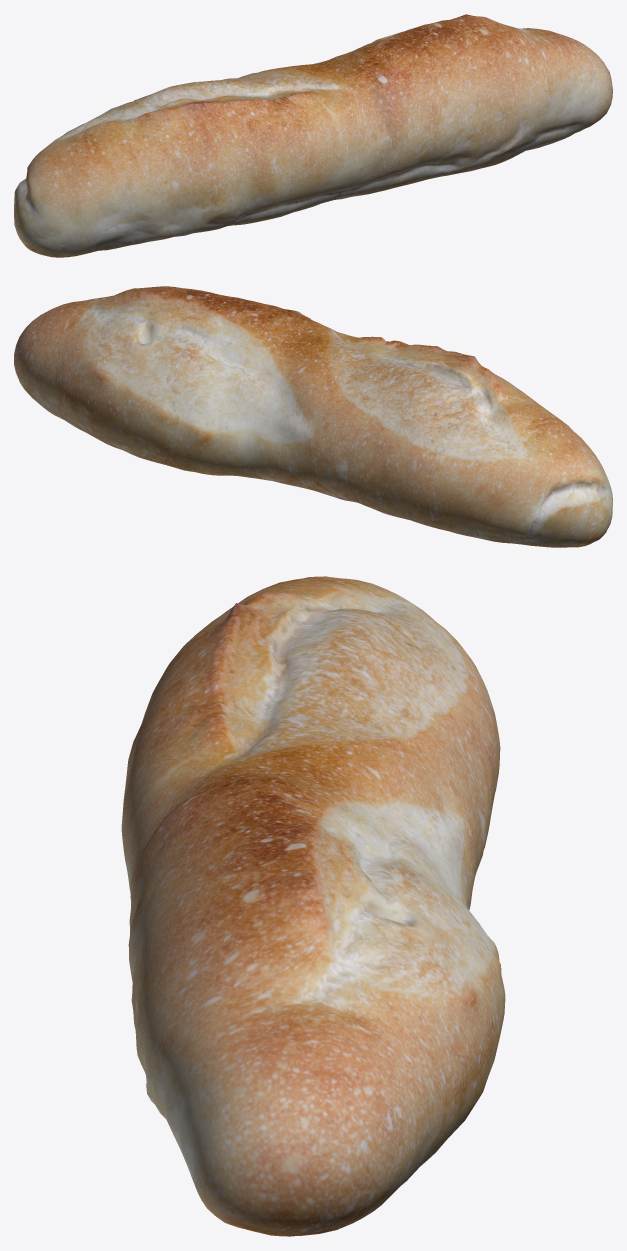
The model's file is bread07.fbx.
The picture shows the model from 3 angles, top to bottom: view 1: azimuth 30°, elevation 25°; view 2: azimuth 150°, elevation 25°; view 3: azimuth 270°, elevation 25°; orthographic projection. The views are drawn at different scales.
Parts seen in each view (by area): view 1: bread07; view 2: bread07; view 3: bread07.
Boxes of the visible parts, x1,y1,x2,y2 form: bread07: (14,14,612,257); bread07: (14,286,612,547); bread07: (121,576,505,1236).
Size of the model in its own units: 24.45 by 5.62 by 7.07.
